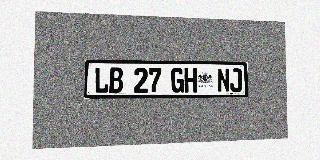2: (134, 67, 148, 93)
7: (148, 68, 161, 93)
B: (109, 67, 123, 93)
G: (171, 68, 184, 93)
H: (184, 68, 197, 93)
J: (230, 68, 242, 92)
L: (94, 67, 109, 93)
N: (217, 68, 230, 92)
